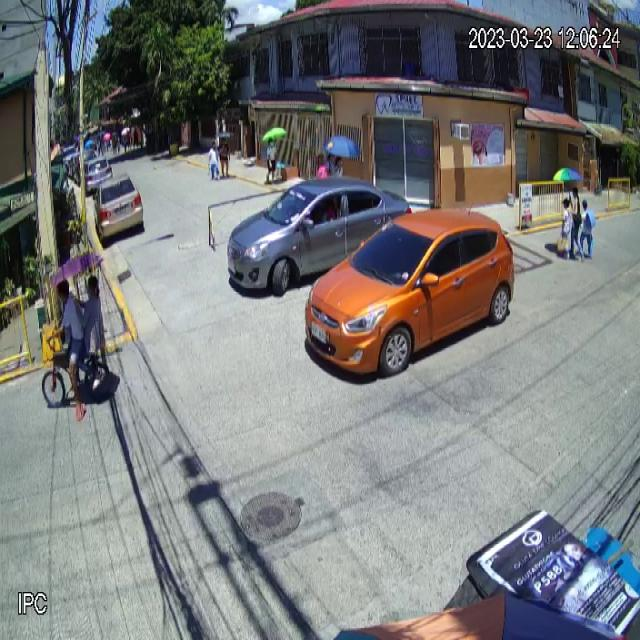Car: (302, 210, 518, 372), (226, 177, 413, 302)
